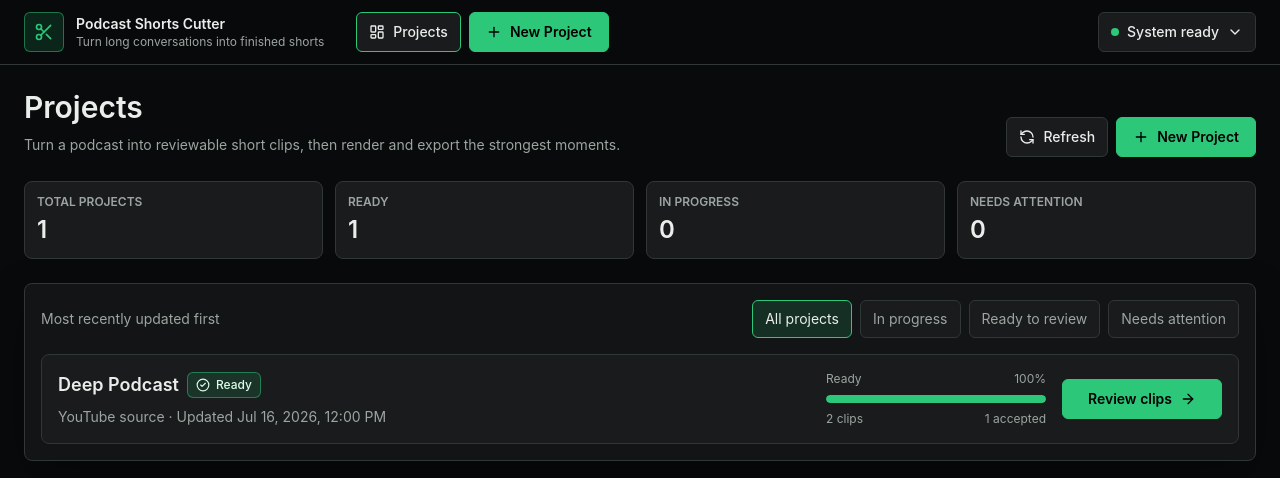
Test case: Product UI › closes the system status popover after an outside click
Click the button "System ready".
click(1177, 32)  # box [1098,12,1256,52]
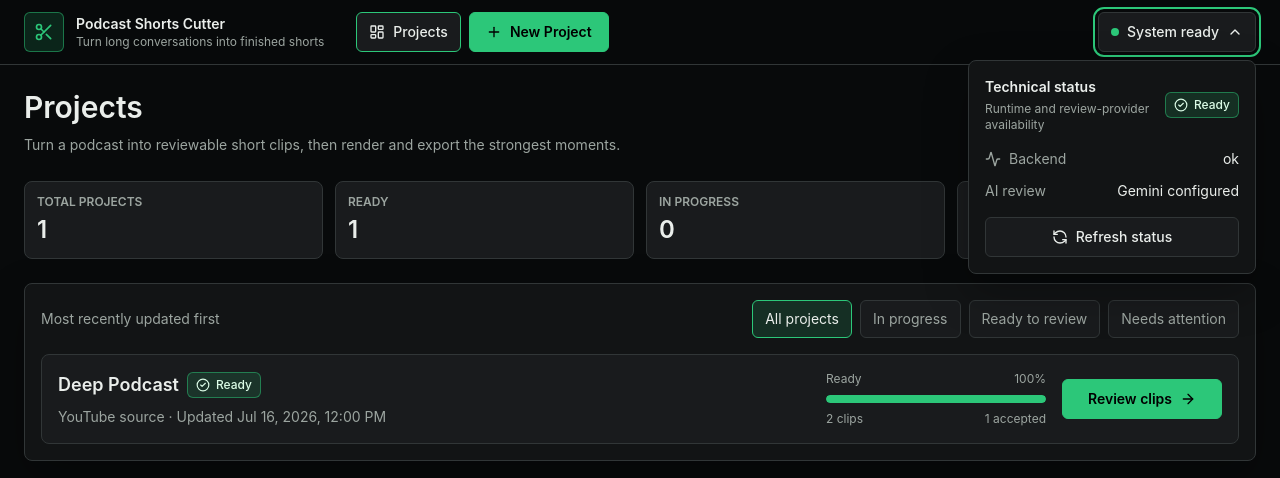
Click the heading "Projects".
click(83, 107)  # box [24,89,143,125]
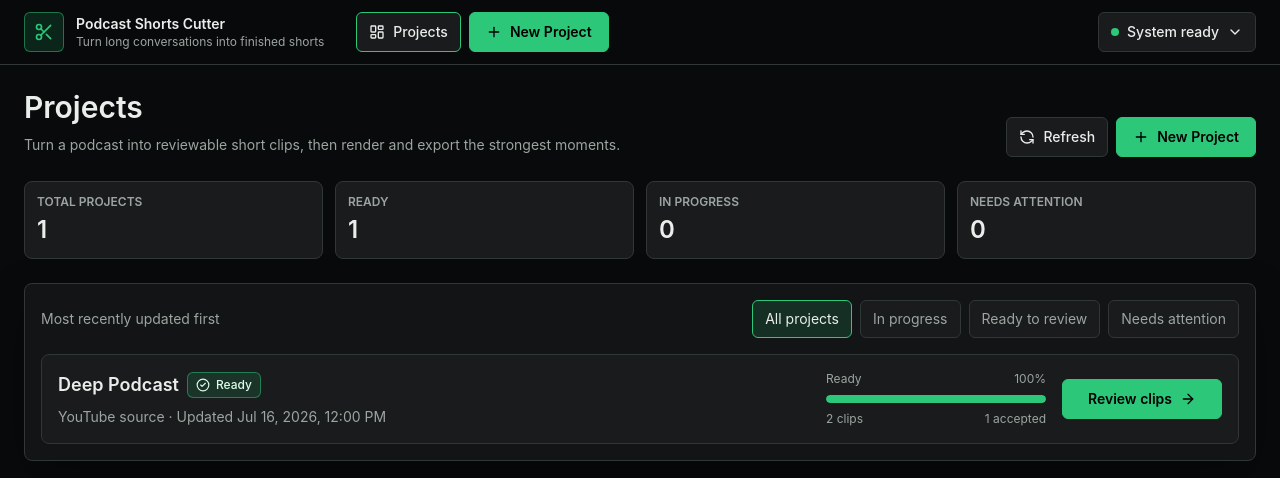
Expected: the button "System ready" is collapsed, [1098,12,1256,52]
Expected: the text "Technical status" is gone
